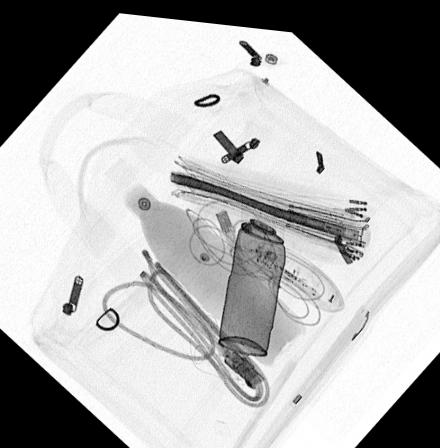Sprayer: (217, 185, 288, 351)
